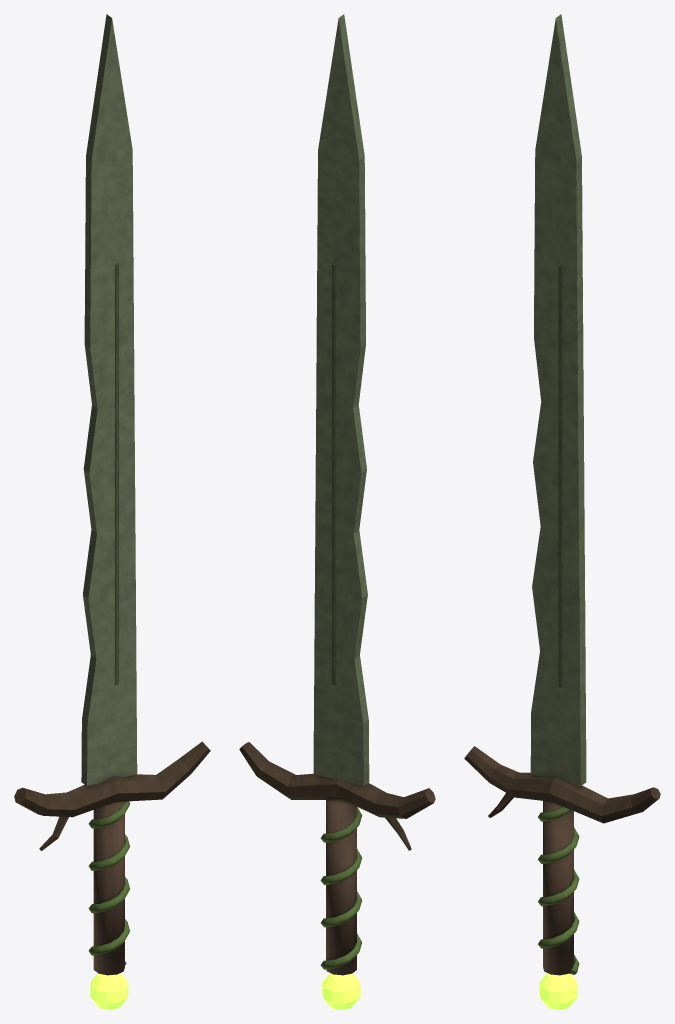
The model's file is 05_swamp_sword.fbx.
3 views of the same model, side by side, from view 1: azimuth 30°, elevation 25°; view 2: azimuth 150°, elevation 25°; view 3: azimuth 330°, elevation 25° (orthographic).
Visible parts, largest first — view 1: Weapon; view 2: Weapon; view 3: Weapon.
Boxes of the visible parts, box(x1,y1,x2,y2) form: Weapon: box(14, 14, 210, 1009); Weapon: box(239, 14, 435, 1009); Weapon: box(464, 14, 660, 1009).
Bounding box in the file's own units: 25.75 × 126 × 4.59.
Materials: 2 (1 with a texture image).
